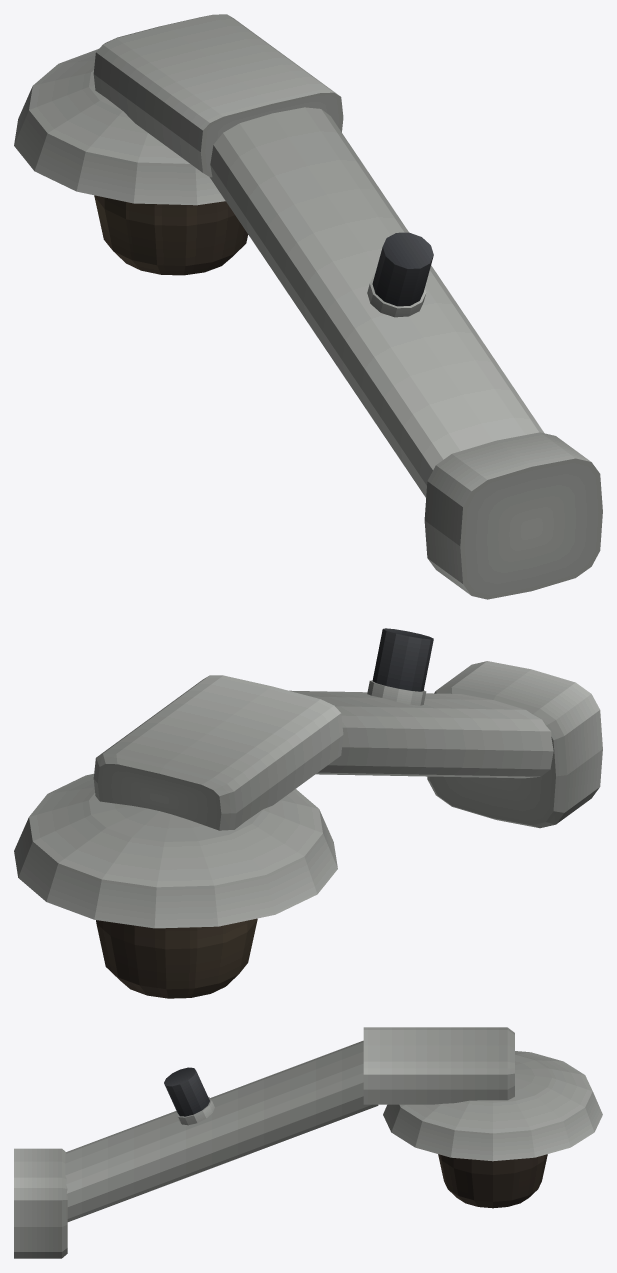
The model's file is streetlight_gepb.obj.
The picture shows the model from 3 angles, top to bottom: view 1: azimuth 30°, elevation 25°; view 2: azimuth 150°, elevation 25°; view 3: azimuth 270°, elevation 25°; orthographic projection. The views are drawn at different scales.
Visible parts, largest first — view 1: fixture; view 2: fixture; view 3: fixture.
Part boxes in pixels (x1,y1,x2,y2): fixture: [14, 14, 602, 599]; fixture: [14, 628, 602, 998]; fixture: [14, 1027, 602, 1258].
Size of the model in its own units: 0.7437 by 0.7469 by 1.99.
